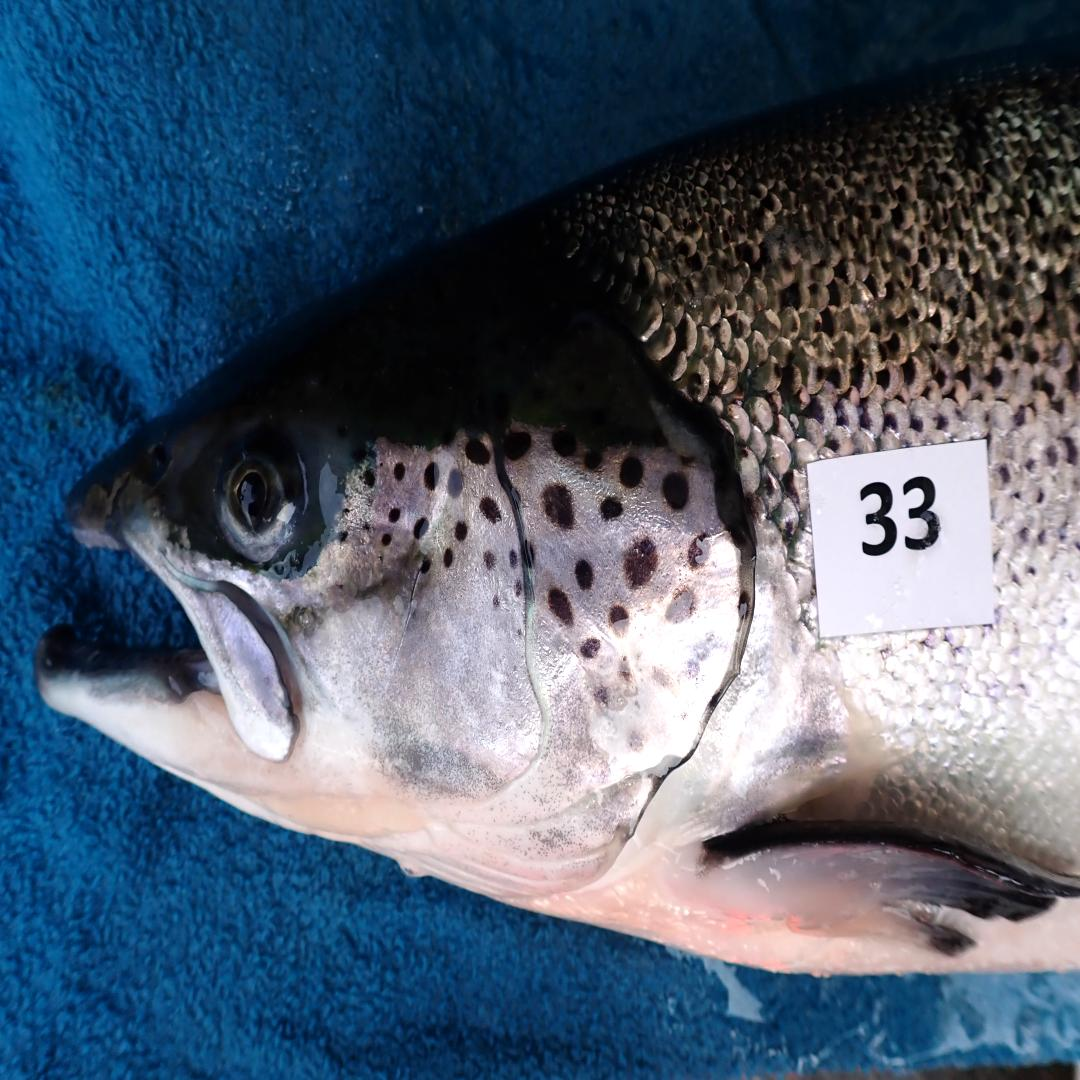roi: (288, 425, 745, 907)
